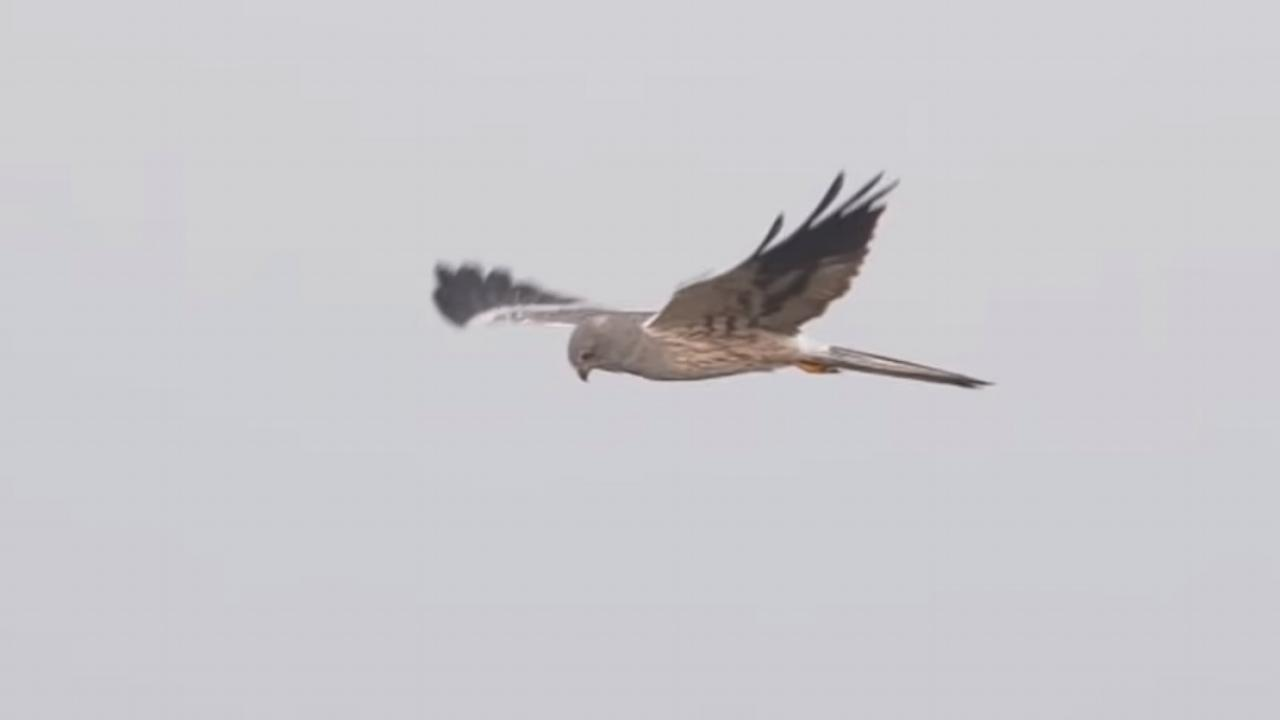Bird: (416, 163, 1008, 409)
